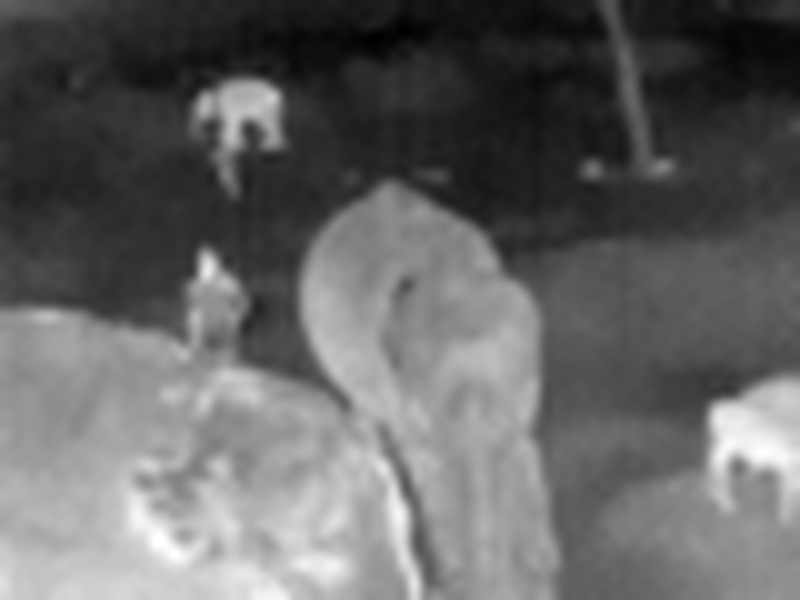elephant: (3, 209, 800, 600), (174, 67, 300, 176)
